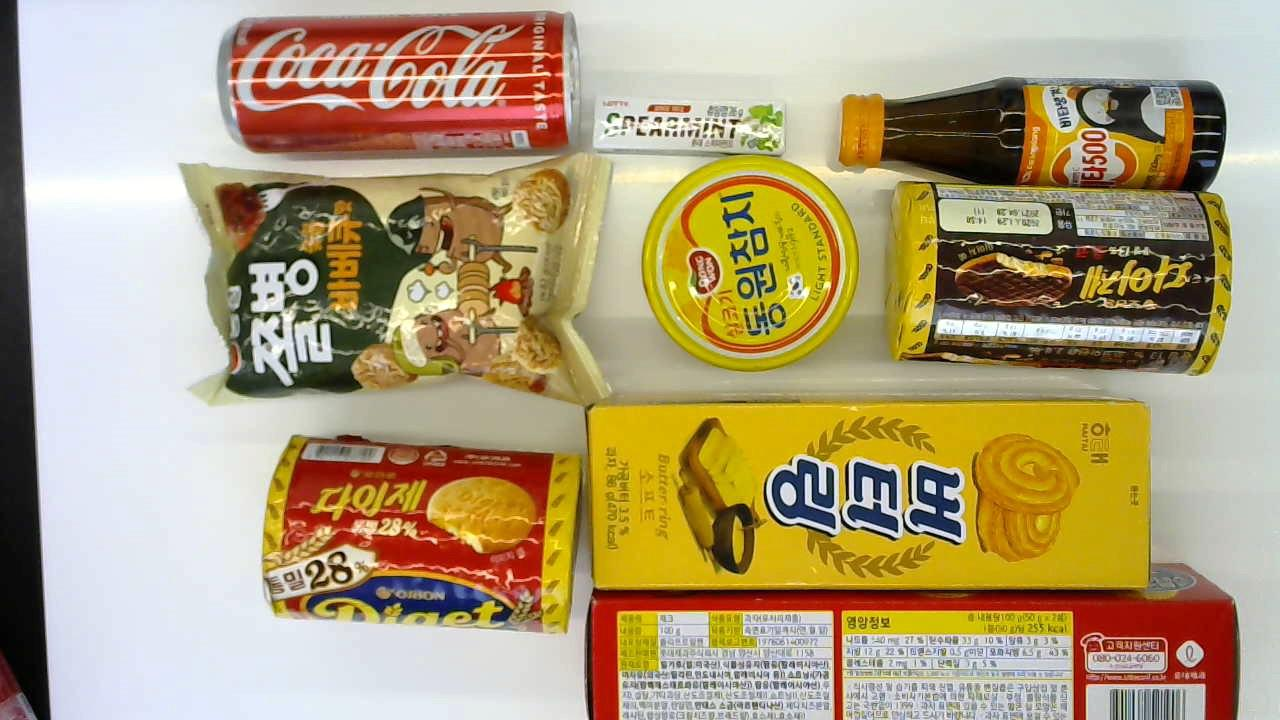buttering: (581, 393, 1155, 588)
coke: (213, 12, 585, 153)
diget_choco: (892, 181, 1233, 378)
diget_ori: (260, 430, 580, 640)
jjolbyung_ori: (175, 152, 614, 409)
spearmint: (591, 89, 787, 153)
tuna: (640, 157, 858, 371)
vita500: (833, 77, 1232, 190)
zec: (579, 565, 1250, 719)
